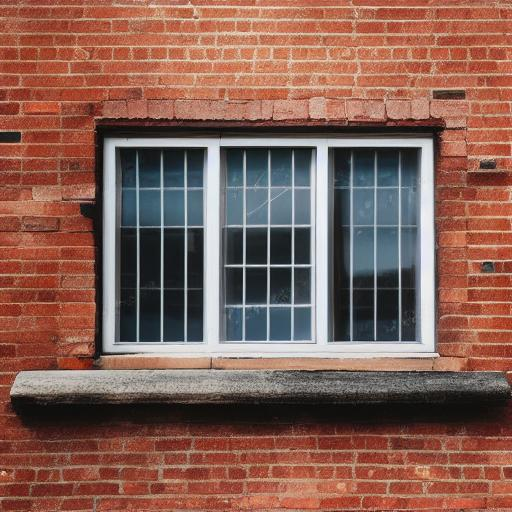Window: (12, 97, 512, 415)
